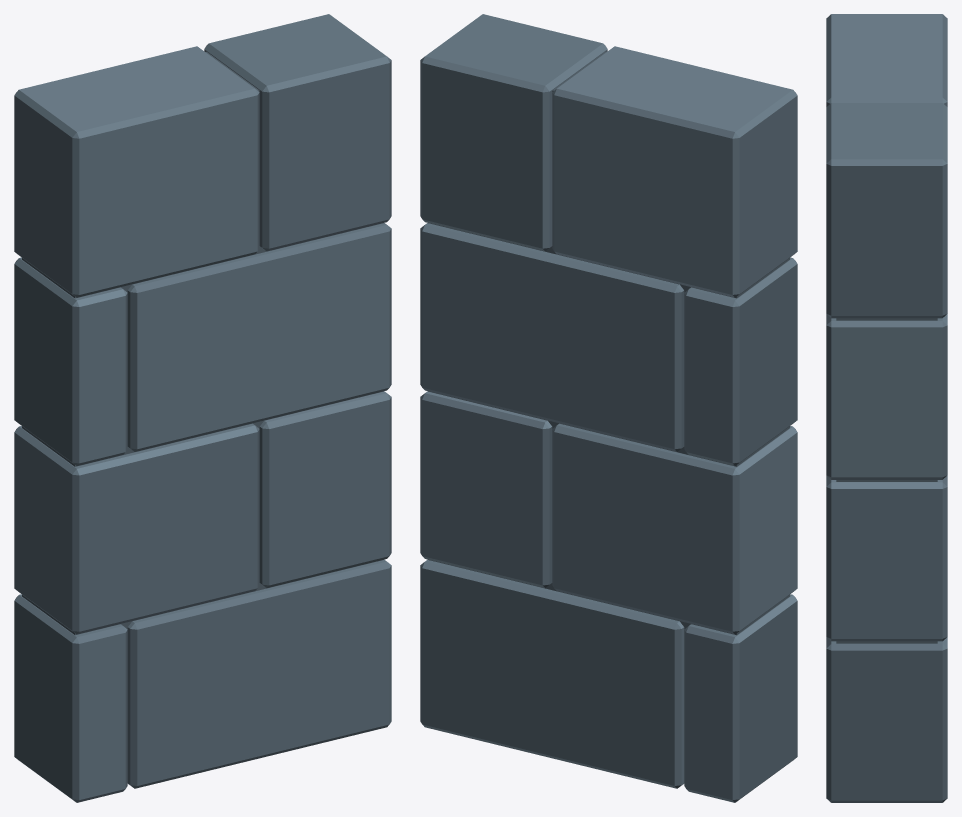
The model's file is A02_Wall_Half_1m.fbx.
3 renders of one model, left to right at view 1: azimuth 30°, elevation 25°; view 2: azimuth 150°, elevation 25°; view 3: azimuth 270°, elevation 25°, orthographic. The views are drawn at different scales.
Parts seen in each view (by area): view 1: A02_Wall_Half_1m; view 2: A02_Wall_Half_1m; view 3: A02_Wall_Half_1m.
Boxes of the visible parts, bbox=[...] form: A02_Wall_Half_1m: bbox=[14, 14, 391, 802]; A02_Wall_Half_1m: bbox=[420, 14, 797, 802]; A02_Wall_Half_1m: bbox=[826, 14, 947, 802].
Bounding box in the file's own units: 0.992 × 1.99 × 0.34.
Materials: 1 (1 with a texture image).
